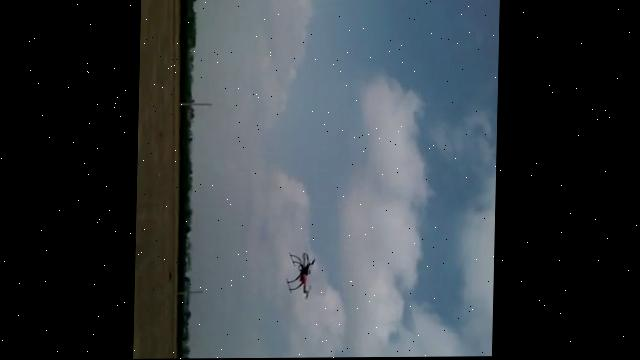drone: (287, 254, 319, 299)
